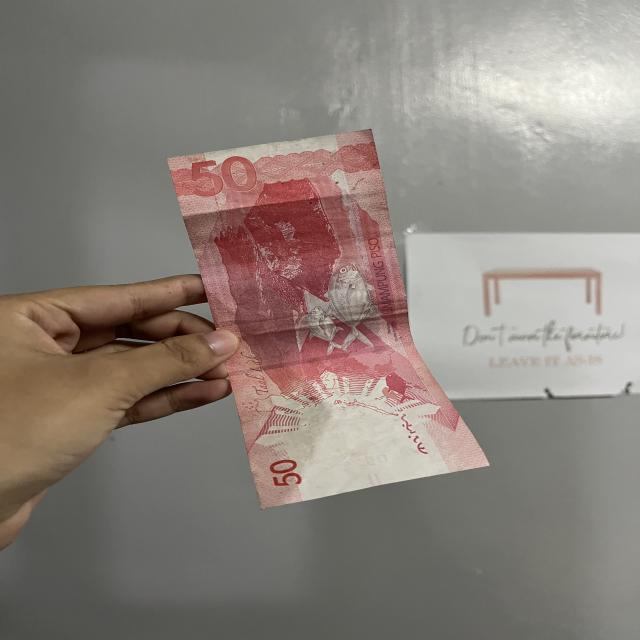security_thread: (212, 342, 425, 375)
see_through_mark: (394, 398, 437, 466)
value: (178, 148, 266, 200)
value_watermark: (362, 450, 388, 467)
